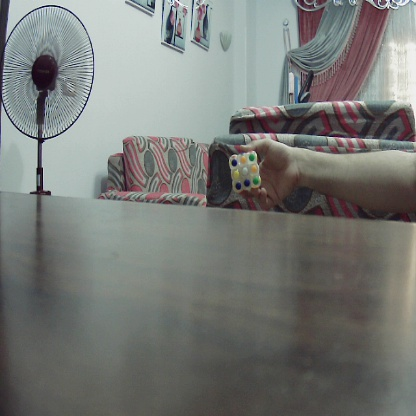Rubix Cube: (229, 151, 264, 192)
